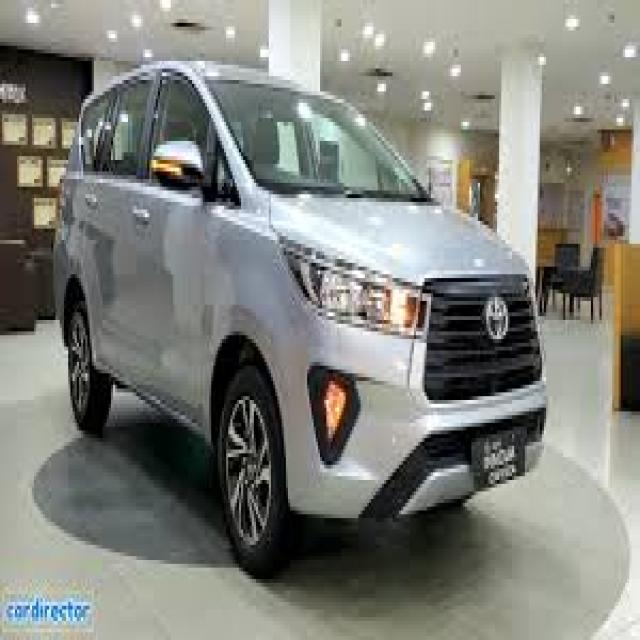light_vehicle: (53, 61, 547, 575)
